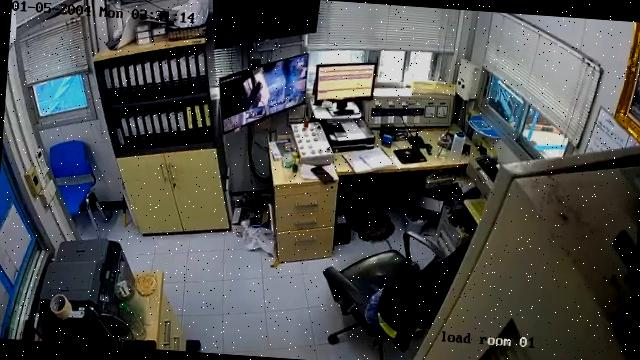Phone: (310, 165, 335, 183)
